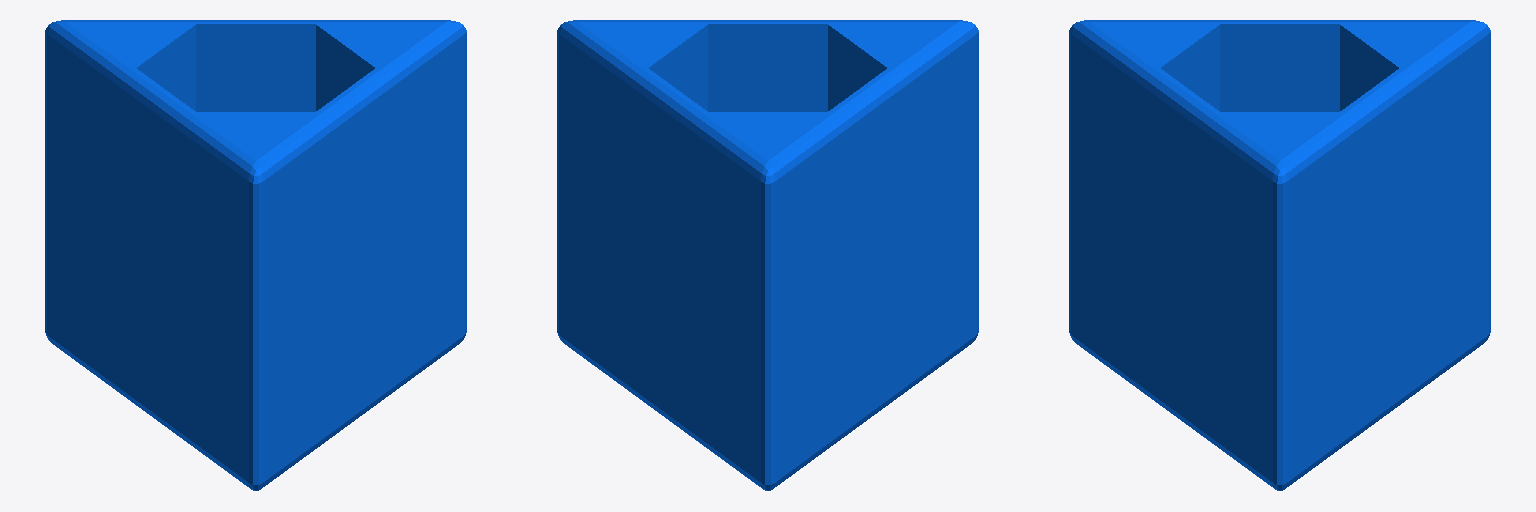
URDF robot description (block):
<?xml version="0.0" ?>
<robot name="block">
    <material name="blue">
        <color rgba="0.078431 0.494117 0.984313 1"/>
    </material>

    <link name="baseLink">
        <!-- from lego/lego.urdf -->
        <contact>
            <lateral_friction value="1.0"/>
            <rolling_friction value="0.0"/>
            <contact_cfm value="0.0"/>
            <contact_erp value="1.0"/>
        </contact>
        <inertial>
            <origin rpy="0 0 0" xyz="0 0 0"/>
            <mass value="0.05"/>
            <inertia ixx="1" ixy="0" ixz="0" iyy="1" iyz="0" izz="1"/>
        </inertial>
        <visual>
            <origin rpy="0 0 0" xyz="0 0 0"/>
            <geometry>
                <!--        radius: 10mm, depth: 14.5mm-->
                <mesh filename="meshes/block.obj" scale="1 1 1"/>
                <!--        <box size="0.002 0.002 0.002"/>-->
            </geometry>
            <material name="blue"/>
        </visual>
        <collision>
            <origin rpy="0 0 0" xyz="0 0 0"/>
            <geometry>
                <mesh filename="meshes/block_vhacd.obj" scale="1 1 1"/>
                <!--        <box size="0.002 0.002 0.002"/>-->
            </geometry>
        </collision>
    </link>

    <link name="waypoint_0">
        <inertial>
            <origin rpy="0 0 0" xyz="0 0 0"/>
            <mass value=".0"/>
            <inertia ixx="0." ixy="0" ixz="0" iyy="0." iyz="0" izz="0."/>
        </inertial>
    </link>

    <joint name="waypoint_joint_0" type="fixed">
        <parent link="baseLink"/>
        <child link="waypoint_0"/>
        <!--    (-R/2, 0, 0)-->
        <origin rpy="0 0 0" xyz="-0.005 0 0"/>
    </joint>

    <link name="waypoint_1">
        <inertial>
            <origin rpy="0 0 0" xyz="0 0 0"/>
            <mass value=".0"/>
            <inertia ixx="0." ixy="0" ixz="0" iyy="0." iyz="0" izz="0."/>
        </inertial>
    </link>

    <joint name="waypoint_joint_1" type="fixed">
        <parent link="baseLink"/>
        <child link="waypoint_1"/>
        <!--    (R/4, sqrt(3)R/4, 0)-->
        <origin rpy="0 0 -2.094395" xyz="0.0025 0.004330 0"/>
    </joint>

    <link name="waypoint_2">
        <inertial>
            <origin rpy="0 0 0" xyz="0 0 0"/>
            <mass value=".0"/>
            <inertia ixx="0." ixy="0" ixz="0" iyy="0." iyz="0" izz="0."/>
        </inertial>
    </link>

    <joint name="waypoint_joint_2" type="fixed">
        <parent link="baseLink"/>
        <child link="waypoint_2"/>
        <!--    (R/4, -sqrt(3)R/4, 0)-->
        <origin rpy="0 0 2.094395" xyz="0.0025 -0.004330 0"/>
    </joint>
</robot>

--- Render facts (derived) ---
3 views of the same robot in one strip: view 1: azimuth 30°, elevation 25°; view 2: azimuth 150°, elevation 25°; view 3: azimuth 270°, elevation 25° (orthographic).
Model block with 4 links and 3 joints (3 fixed), rooted at baseLink, posed every joint at zero.
Links seen in each view (by area): view 1: baseLink; view 2: baseLink; view 3: baseLink.
Boxes of the visible links, x1,y1,x2,y2 form: baseLink: (45, 20, 466, 490); baseLink: (557, 20, 978, 490); baseLink: (1069, 20, 1490, 490).
Bounding box of the posed robot: 0.0147 × 0.0169 × 0.0145 m (x, y, z).
1 mesh visuals loaded from 1 distinct referenced files (1 OBJ).